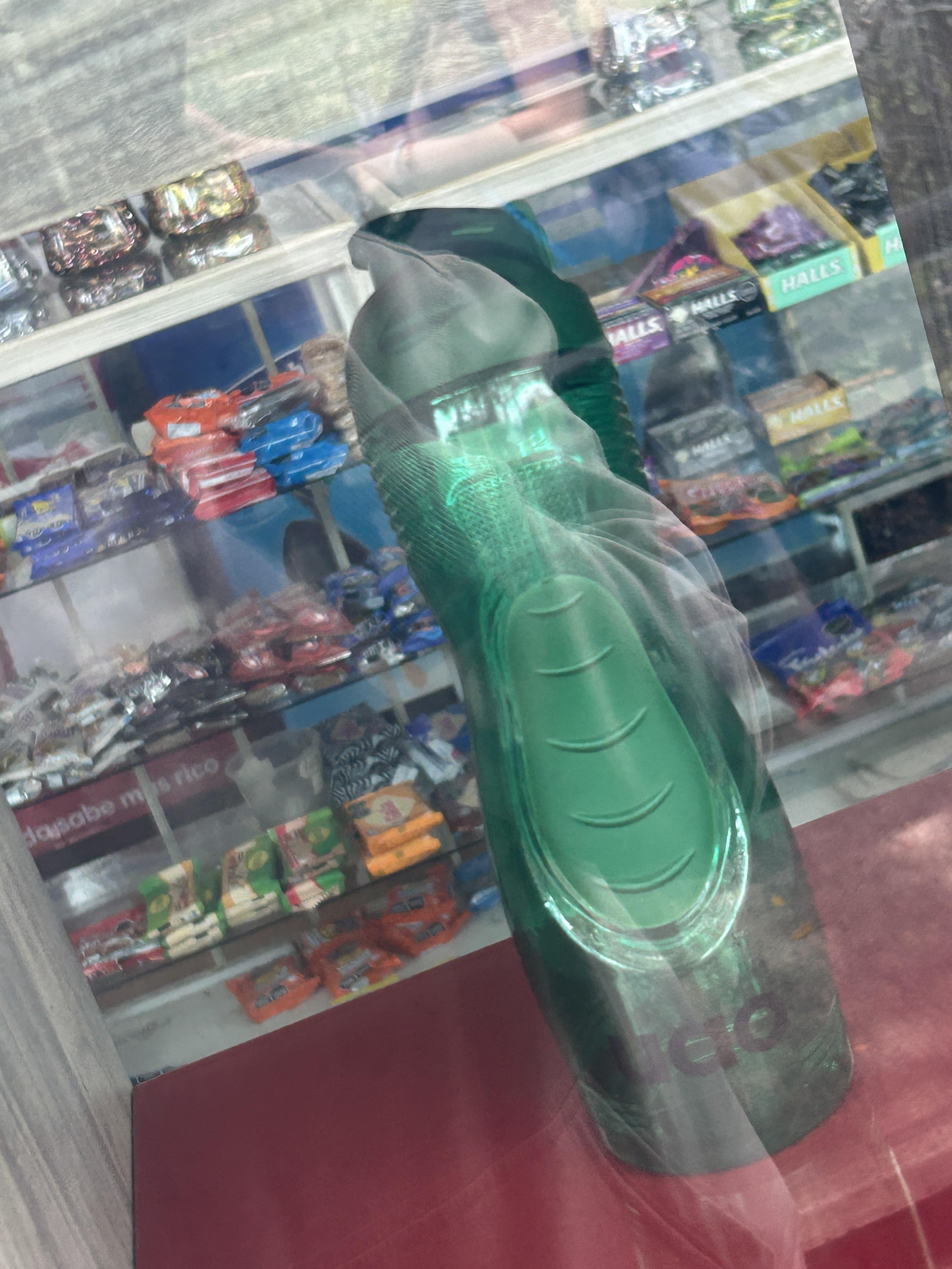termo: (346, 208, 851, 1175)
